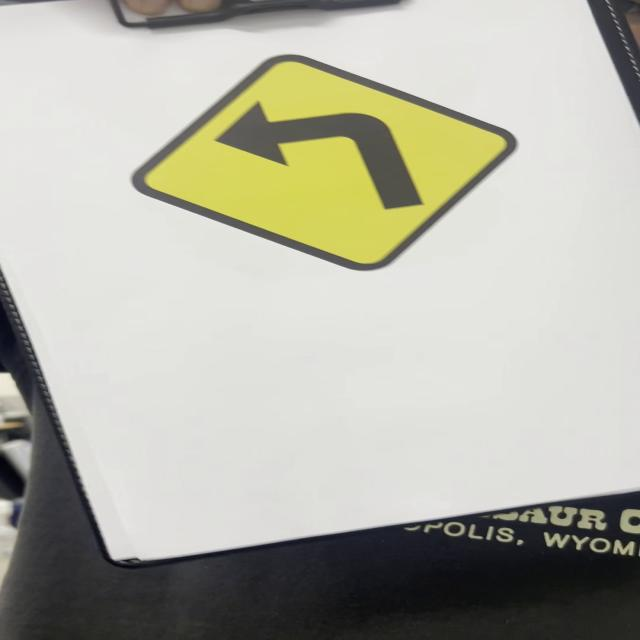left: (140, 53, 519, 276)
